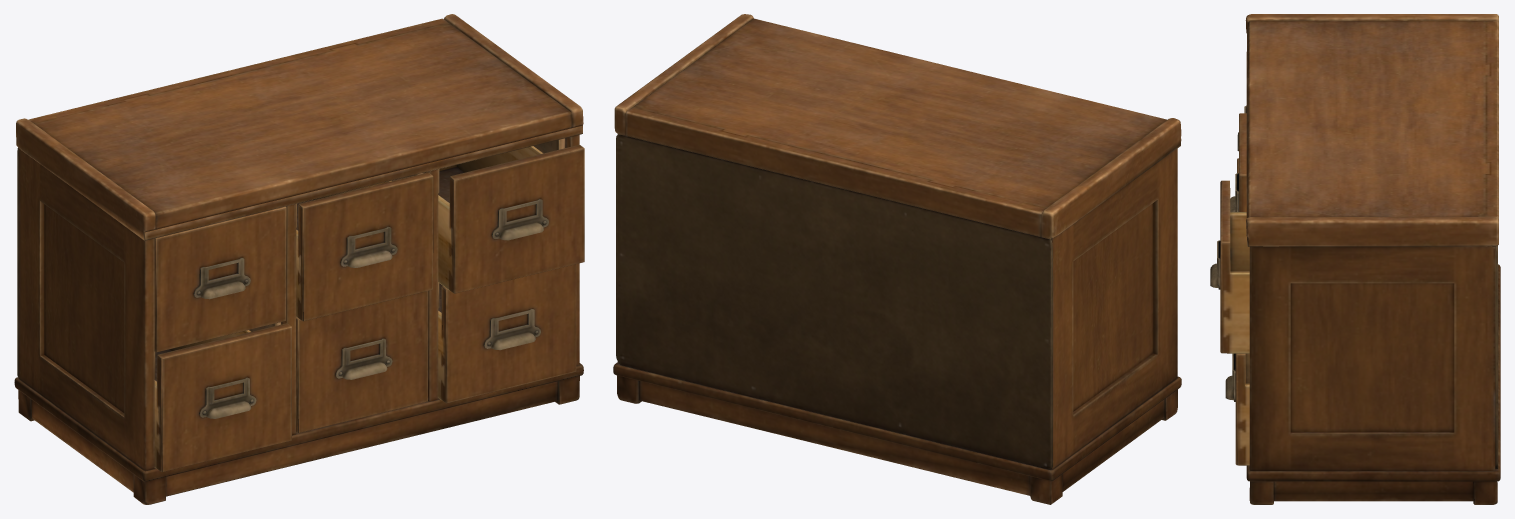
The model's file is vintage_wooden_drawer_01.glb.
3 renders of one model, left to right at view 1: azimuth 30°, elevation 25°; view 2: azimuth 150°, elevation 25°; view 3: azimuth 270°, elevation 25°, orthographic. The views are drawn at different scales.
Visible parts, largest first — view 1: vintage_wooden_drawer_01_body; view 2: vintage_wooden_drawer_01_body; view 3: vintage_wooden_drawer_01_body.
Boxes of the visible parts, x1,y1,x2,y2 form: vintage_wooden_drawer_01_body: (14,14,584,504); vintage_wooden_drawer_01_body: (613,14,1181,504); vintage_wooden_drawer_01_body: (1210,14,1500,504).
Bounding box in the file's own units: 1.72 × 1.09 × 1.01.
1 material, 1 textured.
